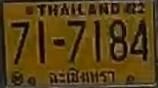1: (38, 20, 44, 63), (94, 19, 100, 62)
4: (130, 19, 147, 60)
7: (11, 21, 29, 64), (67, 19, 85, 62)
8: (108, 19, 126, 60)
CCO: (47, 68, 120, 86)
